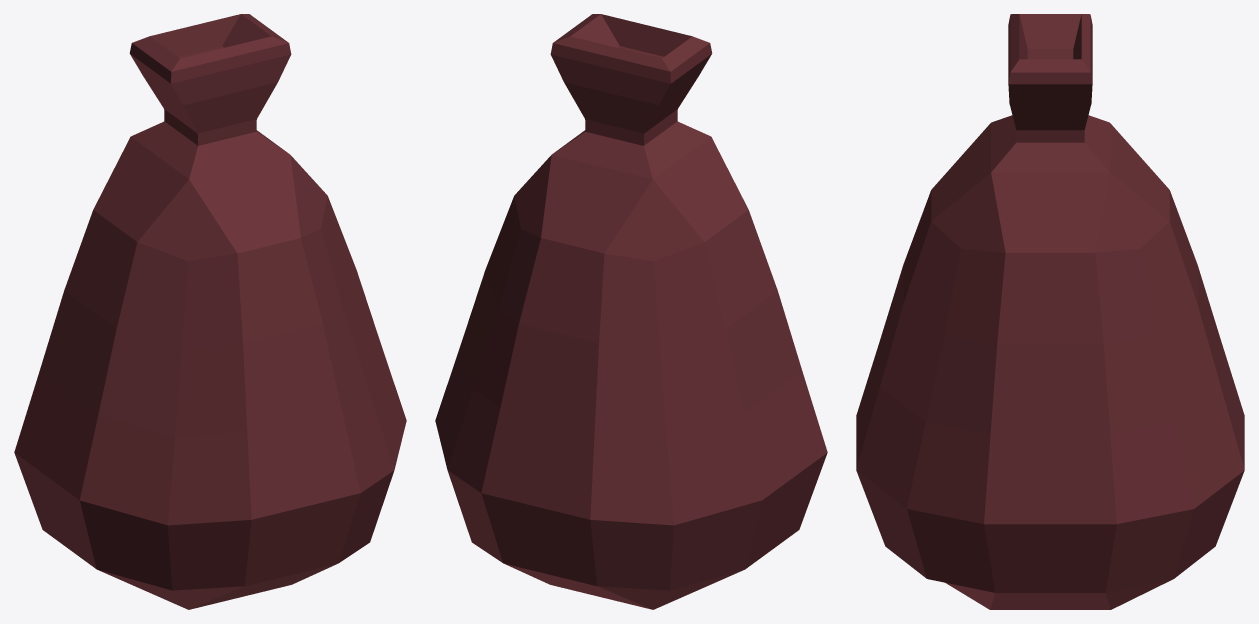
The model's file is kott1.fbx.
3 views of the same model, side by side, from view 1: azimuth 30°, elevation 25°; view 2: azimuth 150°, elevation 25°; view 3: azimuth 270°, elevation 25° (orthographic).
Visible parts, largest first — view 1: Cube.001; view 2: Cube.001; view 3: Cube.001.
Part boxes in pixels (x1,y1,x2,y2): Cube.001: [14, 14, 406, 609]; Cube.001: [435, 14, 827, 609]; Cube.001: [856, 14, 1244, 609].
Bounding box in the file's own units: 48.51 × 76.43 × 49.15.
